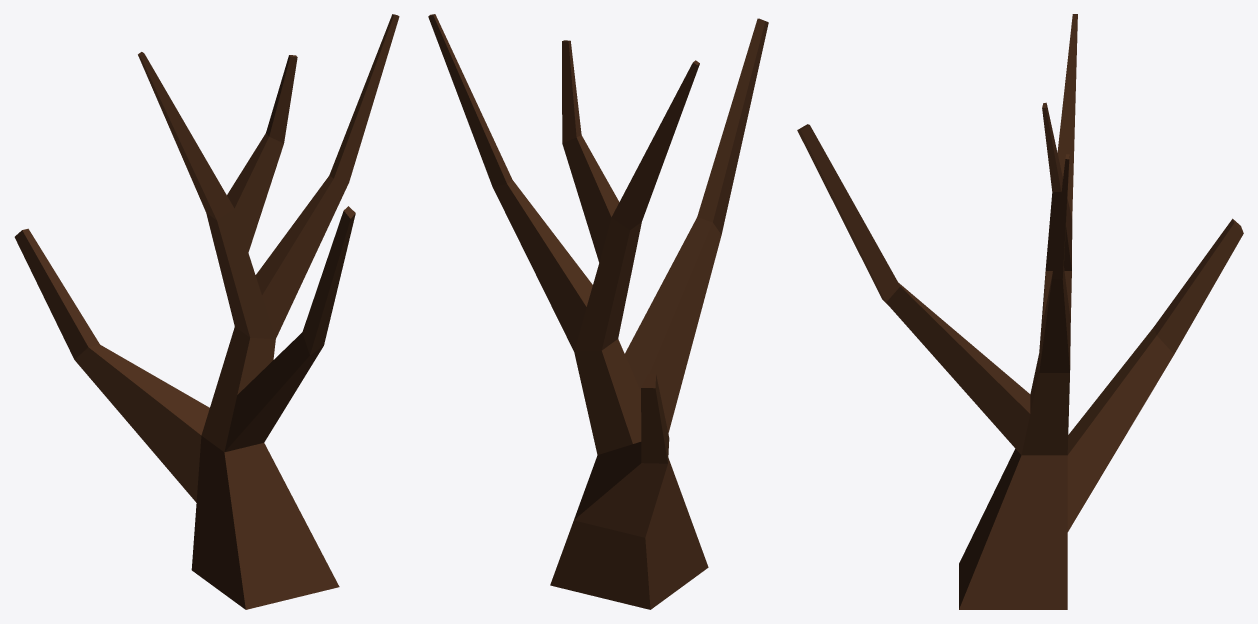
Rendered from BushAutumn2_Alt1.fbx.
3 renders of one model, left to right at view 1: azimuth 30°, elevation 25°; view 2: azimuth 150°, elevation 25°; view 3: azimuth 270°, elevation 25°, orthographic. The views are drawn at different scales.
Visible parts, largest first — view 1: BushAutumn2_Alt1; view 2: BushAutumn2_Alt1; view 3: BushAutumn2_Alt1.
Boxes of the visible parts, x1=… form: BushAutumn2_Alt1: x1=14, y1=14, x2=399, y2=609; BushAutumn2_Alt1: x1=428, y1=14, x2=768, y2=609; BushAutumn2_Alt1: x1=797, y1=14, x2=1243, y2=609.
Size of the model in its own units: 0.3067 by 0.5177 by 0.397.
